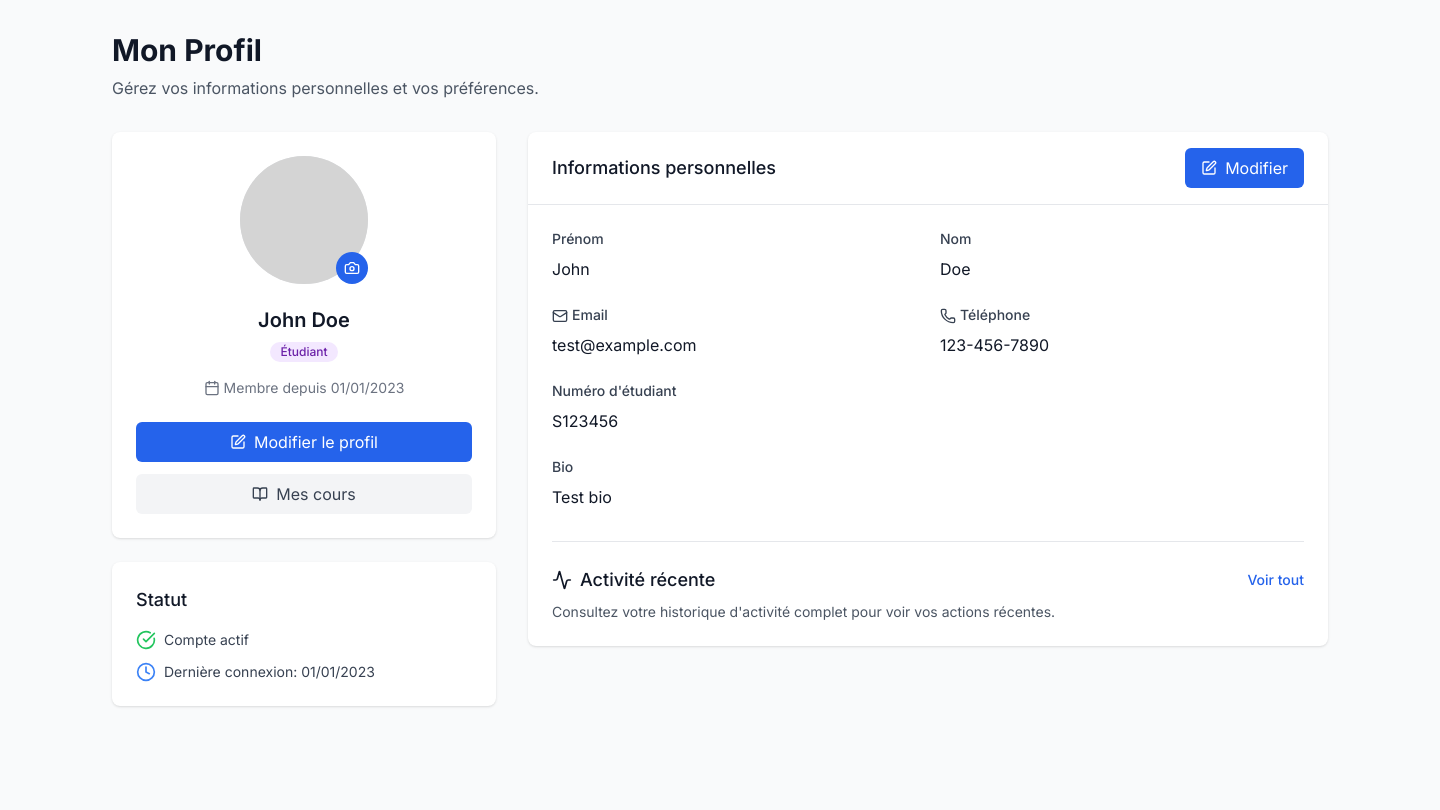
ProfilePage Component › Profile Editing › should enter edit mode when edit button is clicked
Click the button "Modifier" at (1245, 168), box [1185,148,1304,188]
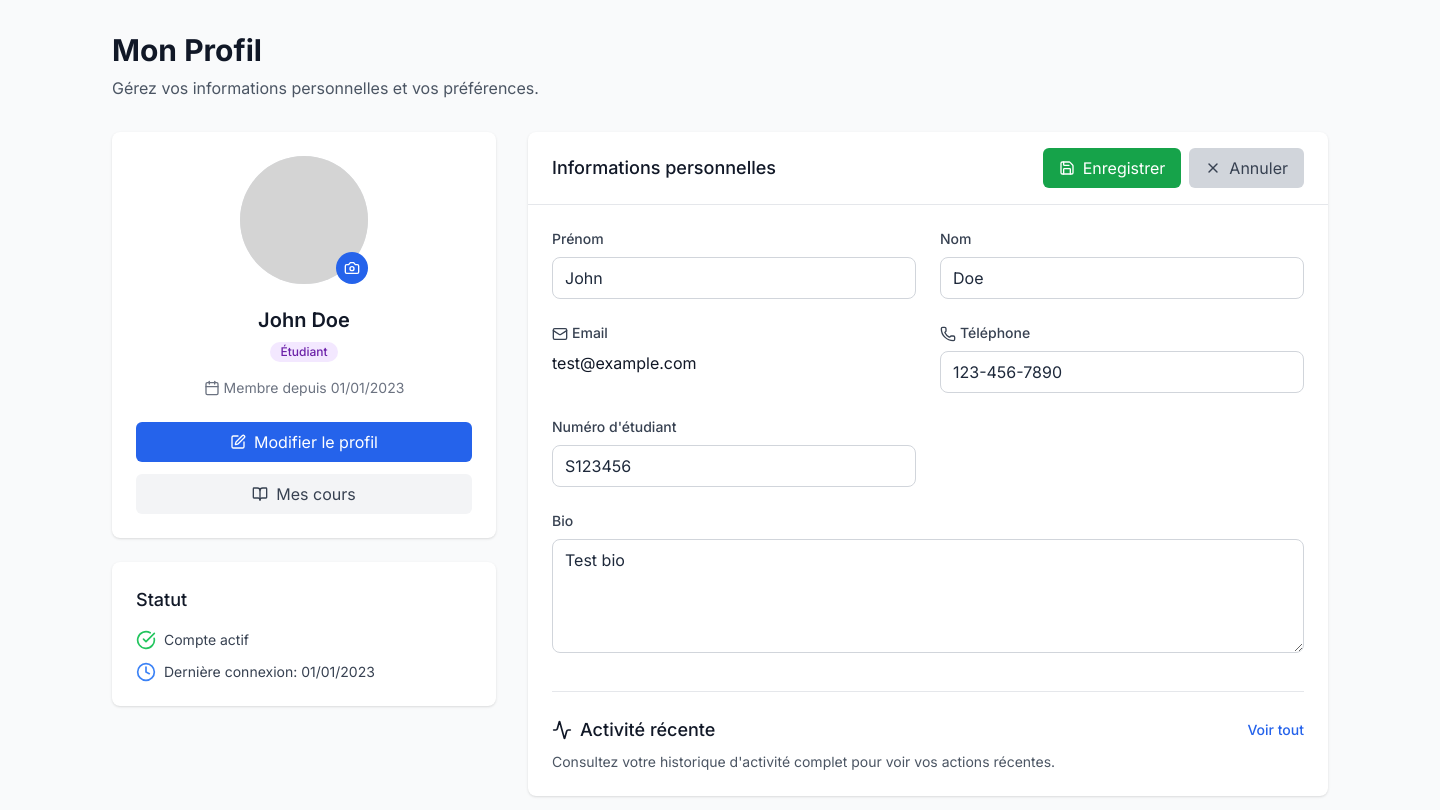
Now the field showing "John" below "Prénom" is shown, box [552,257,916,299]
Now the 2nd field showing "Doe" is shown, box [940,257,1304,299]
Now the button "Enregistrer" is shown, box [1043,148,1181,188]
